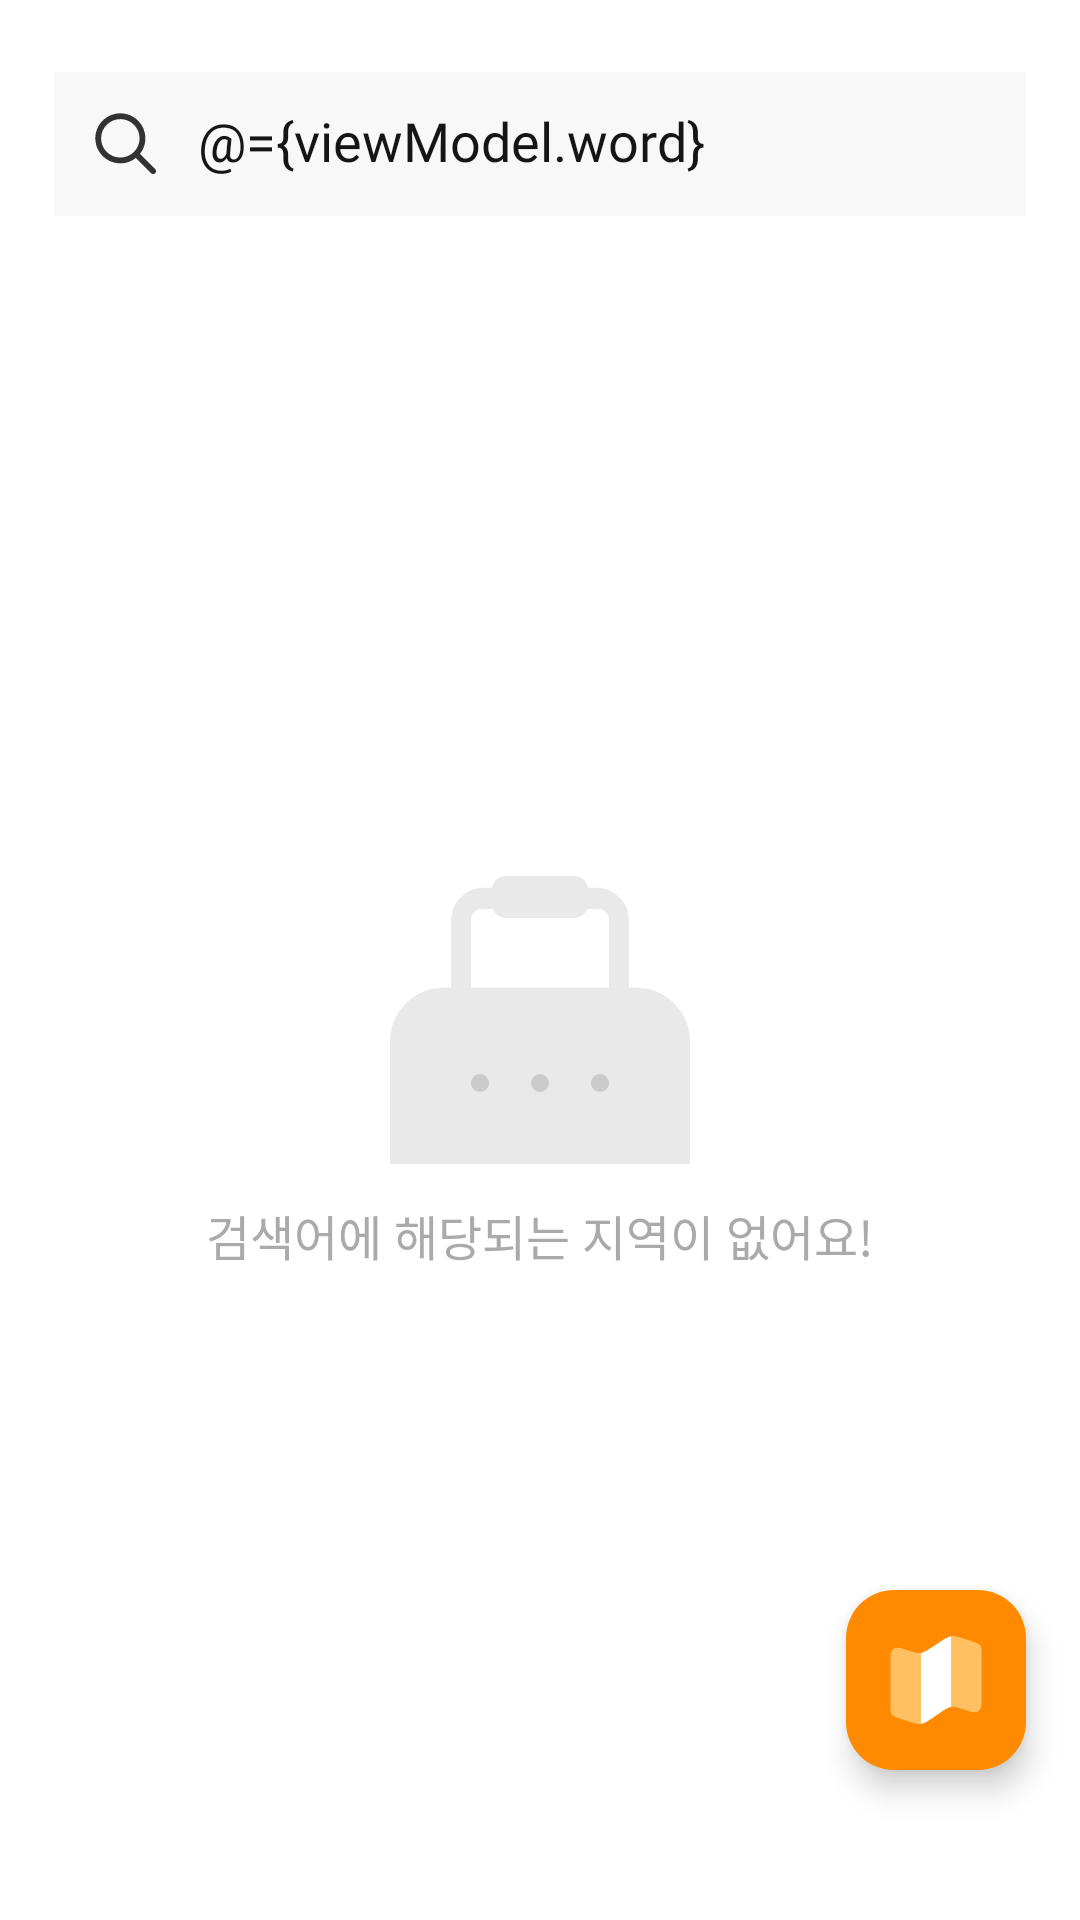

Locate icon controls on the screen. Image size 1080*1920, boxes as (x1, y1, x2, y2).
map: (846, 1590, 1026, 1770)
search: (95, 113, 156, 174)
